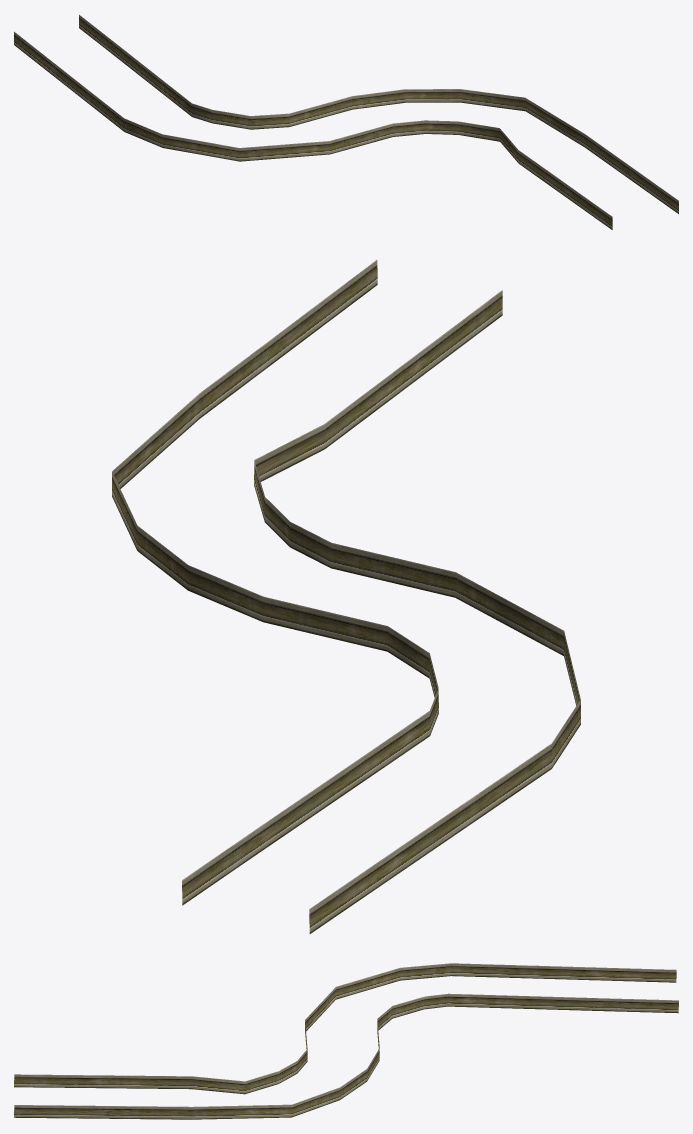
File: CH09_SMAUG_PLAYSURFACE_LAIR107.fbx
The picture shows the model from 3 angles, top to bottom: view 1: azimuth 30°, elevation 25°; view 2: azimuth 150°, elevation 25°; view 3: azimuth 270°, elevation 25°; orthographic projection. The views are drawn at different scales.
Visible parts, largest first — view 1: CH09_SMAUG_PLAYSURFACE_LAIR107; view 2: CH09_SMAUG_PLAYSURFACE_LAIR107; view 3: CH09_SMAUG_PLAYSURFACE_LAIR107.
Part boxes in pixels (bbox=[...]): CH09_SMAUG_PLAYSURFACE_LAIR107: bbox=[14, 15, 678, 229]; CH09_SMAUG_PLAYSURFACE_LAIR107: bbox=[112, 260, 580, 933]; CH09_SMAUG_PLAYSURFACE_LAIR107: bbox=[14, 963, 678, 1119].
Size of the model in its own units: 192649 by 13712 by 362944.
Materials: 1 (1 with a texture image).
